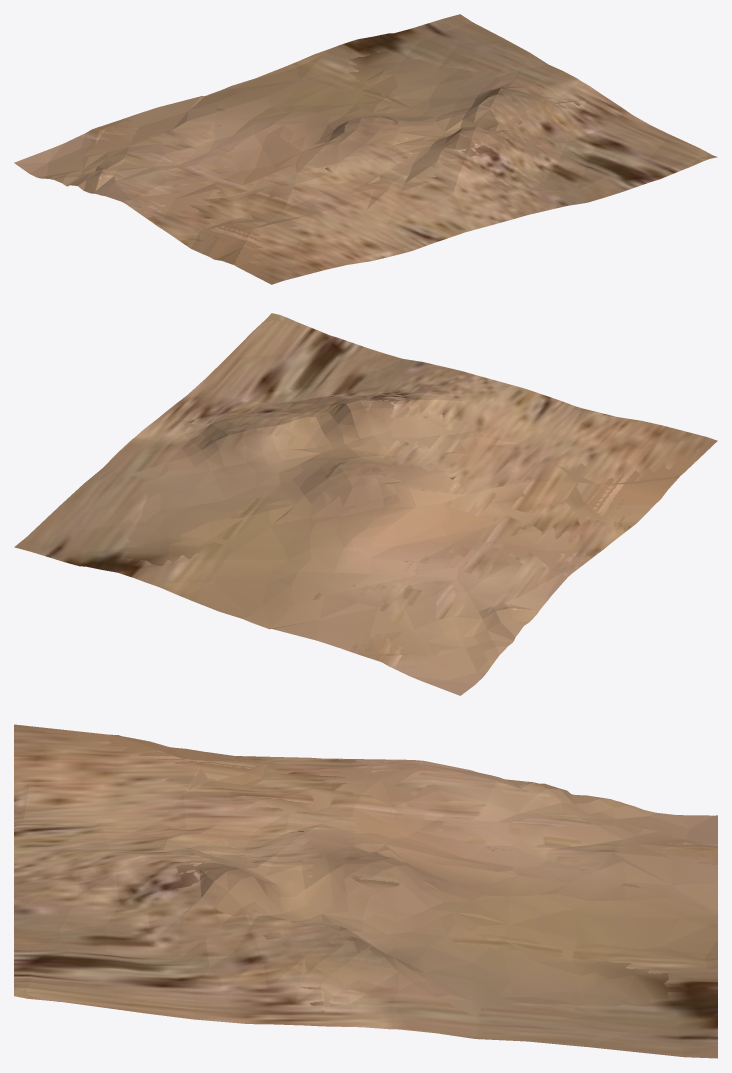
3 renders of one model, top to bottom at view 1: azimuth 30°, elevation 25°; view 2: azimuth 150°, elevation 25°; view 3: azimuth 270°, elevation 25°, orthographic. The views are drawn at different scales.
Size of the model in its own units: 1.04 by 0.2145 by 1.04.
Materials: 2 (2 with a texture image).
